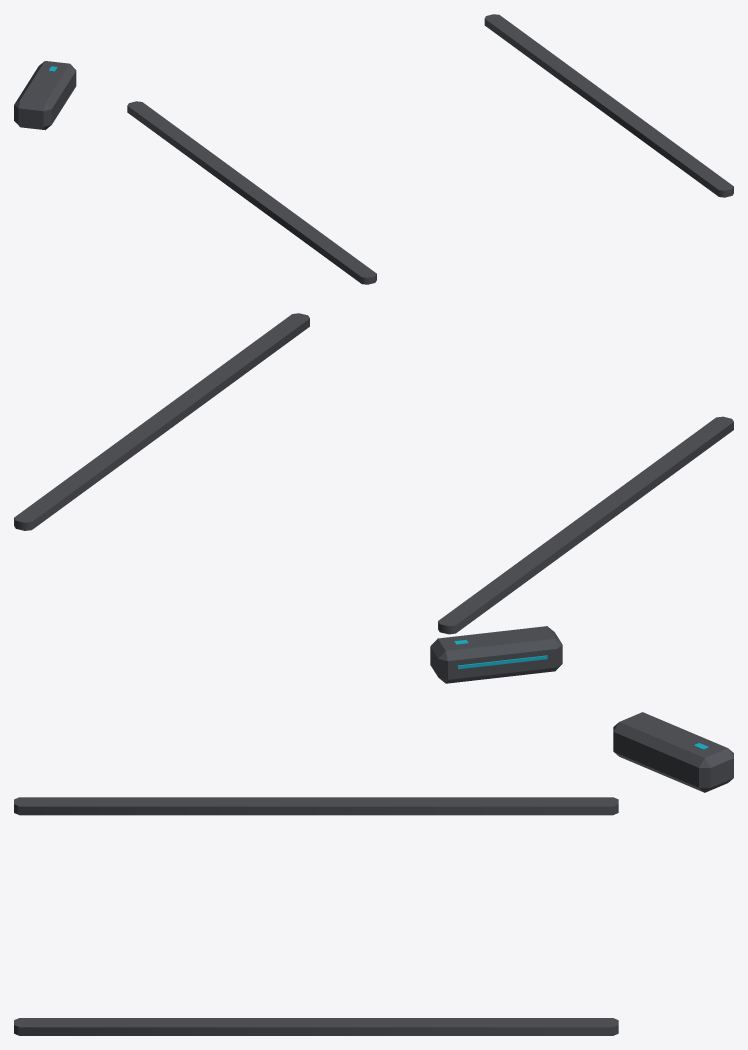
File: n10_mount.obj
The picture shows the model from 3 angles, top to bottom: view 1: azimuth 30°, elevation 25°; view 2: azimuth 150°, elevation 25°; view 3: azimuth 270°, elevation 25°; orthographic projection. The views are drawn at different scales.
Visible parts, largest first — view 1: n10_mount; view 2: n10_mount; view 3: n10_mount.
Boxes of the visible parts, x1,y1,x2,y2 form: n10_mount: [14, 14, 733, 284]; n10_mount: [14, 313, 733, 683]; n10_mount: [14, 712, 733, 1035].
Bounding box in the file's own units: 2.51 × 0.142 × 2.62.
